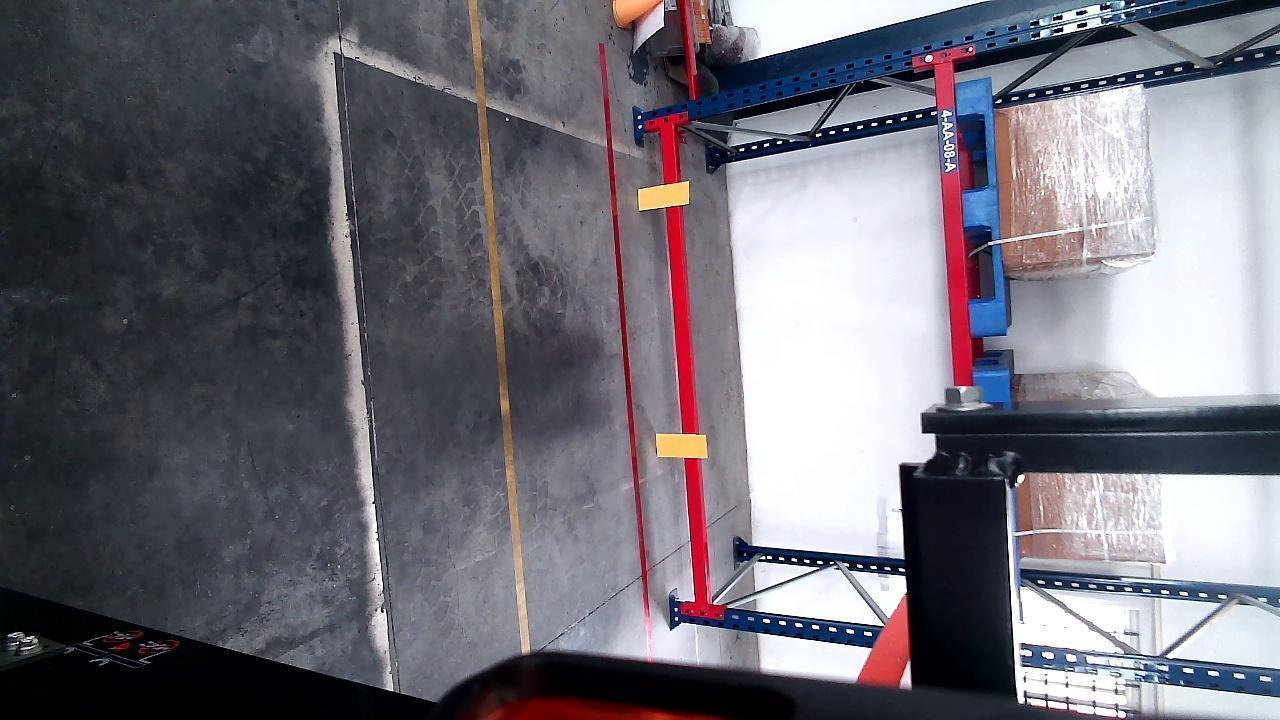red_line: (599, 38, 653, 632)
